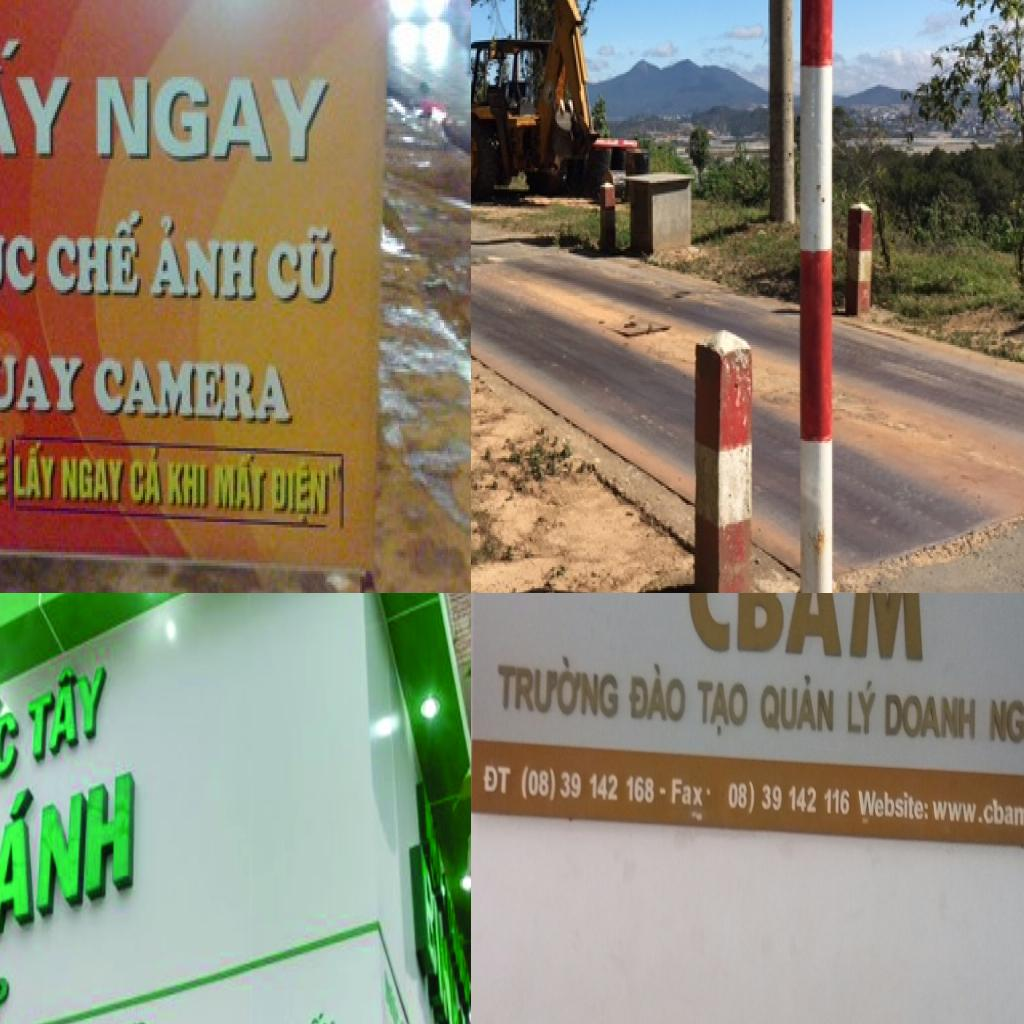text: (0, 747, 135, 973), (94, 71, 335, 167), (685, 593, 925, 665), (90, 353, 298, 429), (0, 39, 85, 159), (149, 214, 262, 304), (495, 646, 621, 724), (26, 650, 108, 769), (45, 208, 145, 301), (0, 350, 89, 429), (264, 224, 342, 306), (518, 763, 656, 809), (758, 668, 836, 737), (727, 776, 851, 817), (882, 692, 978, 743), (626, 659, 688, 726), (57, 451, 129, 508), (210, 448, 270, 514), (694, 676, 750, 740), (12, 437, 61, 506), (0, 232, 38, 309), (987, 685, 1024, 762), (856, 787, 930, 823), (126, 443, 166, 508), (846, 674, 880, 738), (166, 462, 210, 511), (670, 773, 704, 808), (481, 764, 512, 798), (294, 1007, 338, 1024), (0, 434, 10, 500)
